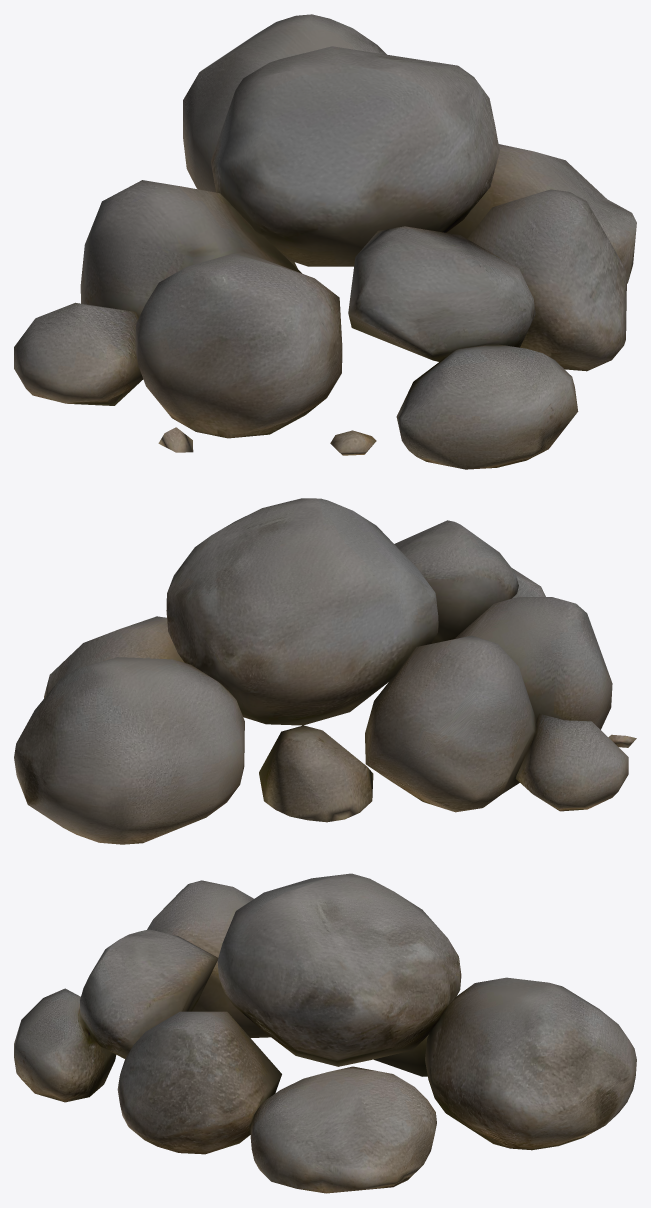
Rendered from stone_03.glb.
The picture shows the model from 3 angles, top to bottom: view 1: azimuth 30°, elevation 25°; view 2: azimuth 150°, elevation 25°; view 3: azimuth 270°, elevation 25°; orthographic projection. The views are drawn at different scales.
Parts seen in each view (by area): view 1: tripo_node_b203ffd5-6ef6-4b64-93f0-3cb5c3963738; view 2: tripo_node_b203ffd5-6ef6-4b64-93f0-3cb5c3963738; view 3: tripo_node_b203ffd5-6ef6-4b64-93f0-3cb5c3963738.
Boxes of the visible parts, left/top/right/bottom form: tripo_node_b203ffd5-6ef6-4b64-93f0-3cb5c3963738: left=14, top=14, right=636, bottom=469; tripo_node_b203ffd5-6ef6-4b64-93f0-3cb5c3963738: left=14, top=498, right=636, bottom=844; tripo_node_b203ffd5-6ef6-4b64-93f0-3cb5c3963738: left=14, top=873, right=636, bottom=1193.
Bounding box in the file's own units: 1.23 × 0.5 × 1.35.
Materials: 1 (1 with a texture image).
